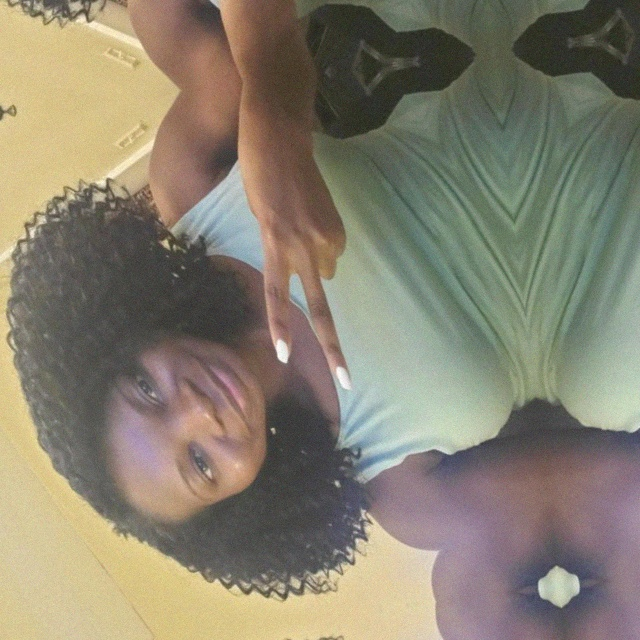Scissors: (100, 0, 397, 63)
